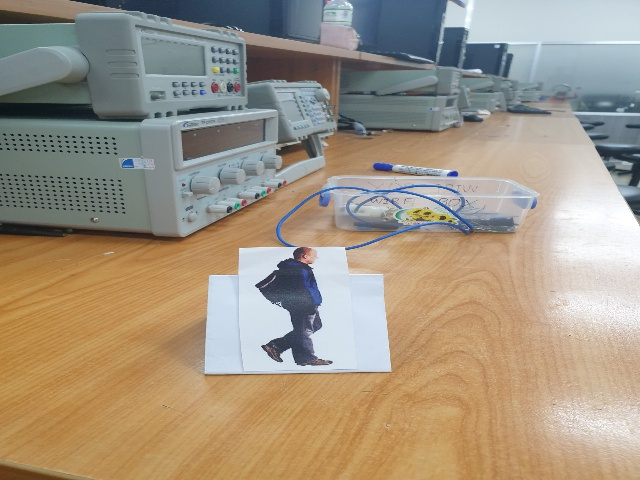Person: (248, 248, 340, 371)
